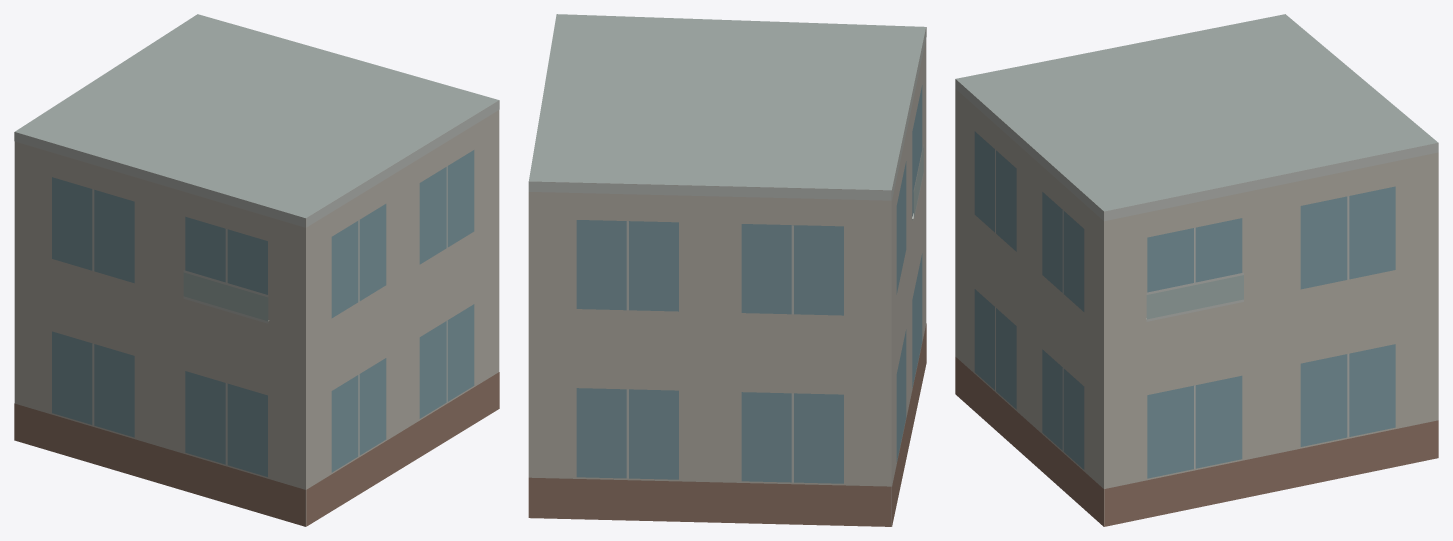
Rendered from survey-upis-32597211.glb.
3 views of the same model, side by side, from view 1: azimuth 30°, elevation 25°; view 2: azimuth 150°, elevation 25°; view 3: azimuth 270°, elevation 25° (orthographic). The views are drawn at different scales.
Visible parts, largest first — view 1: survey-upis-32597211.tmp; view 2: survey-upis-32597211.tmp; view 3: survey-upis-32597211.tmp.
Boxes of the visible parts, x1,y1,x2,y2 form: survey-upis-32597211.tmp: (14,14,499,526); survey-upis-32597211.tmp: (528,14,926,526); survey-upis-32597211.tmp: (955,14,1438,526).
Size of the model in its own units: 10.62 by 7.9 by 10.98.
